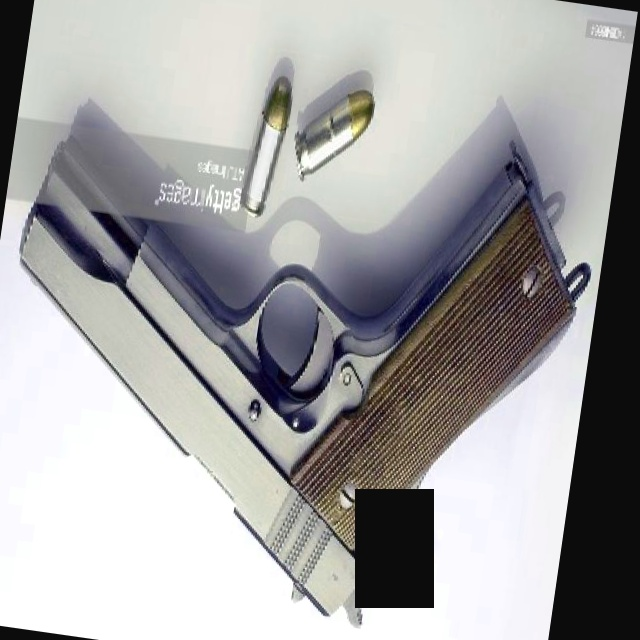gun: (0, 80, 612, 640)
